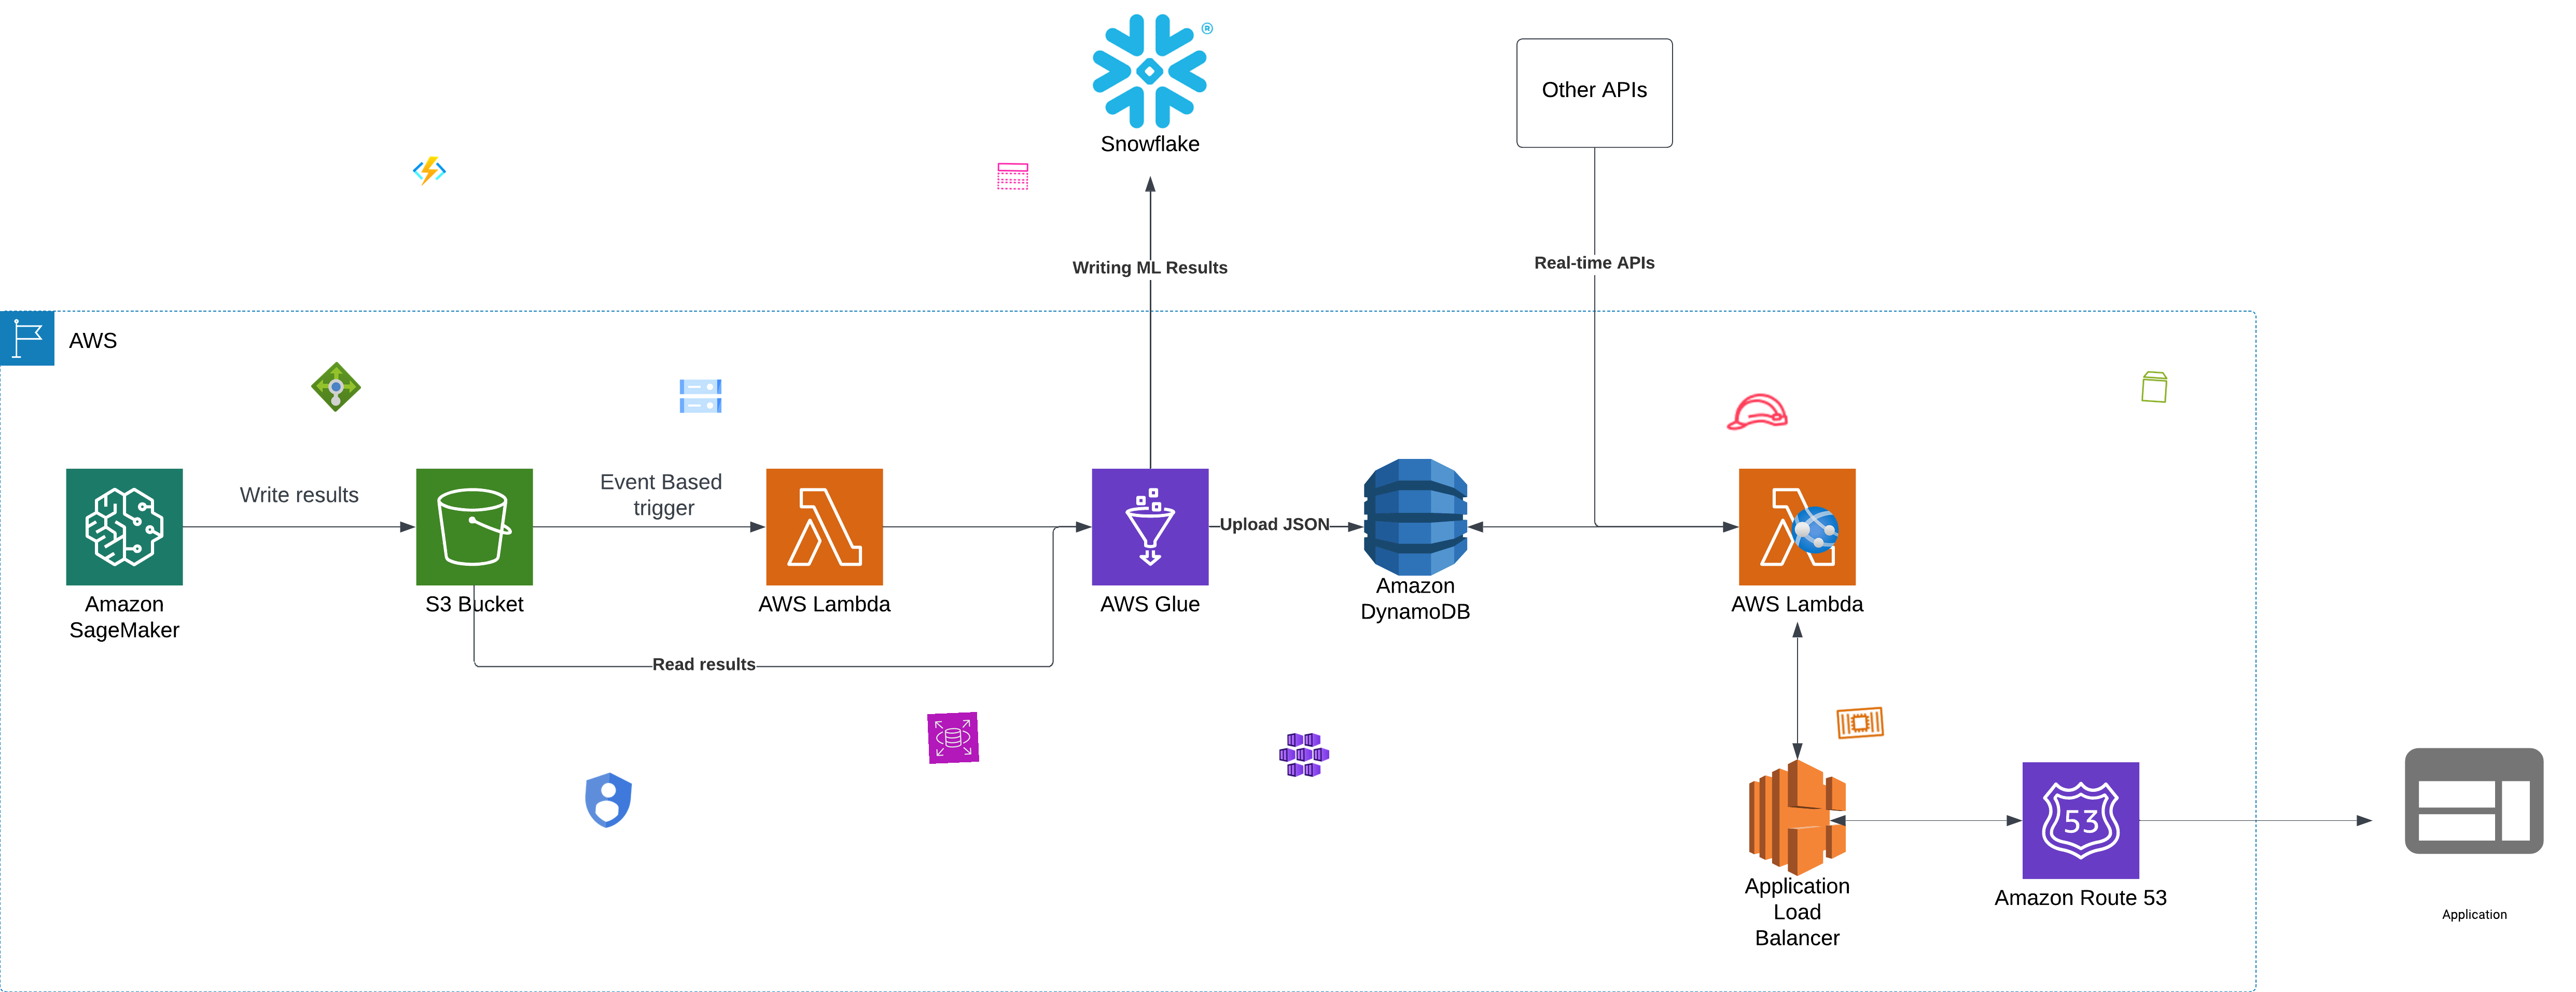aws_amazon_rds: (927, 711, 979, 764)
aws_elastic_block_store_volume: (2137, 368, 2173, 406)
aws_elastic_container_service_container_2: (1833, 696, 1888, 751)
aws_identity_access_management_role: (1722, 376, 1792, 447)
aws_simple_notification_service_topic: (996, 159, 1030, 194)
azure_app_services: (1789, 504, 1842, 555)
azure_function_apps: (412, 153, 447, 189)
azure_kubernetes_services: (1278, 729, 1329, 780)
azure_load_balancers: (310, 361, 361, 412)
gcp_cloud_storage: (675, 371, 726, 422)
gcp_identity_and_access_management: (572, 764, 644, 836)
